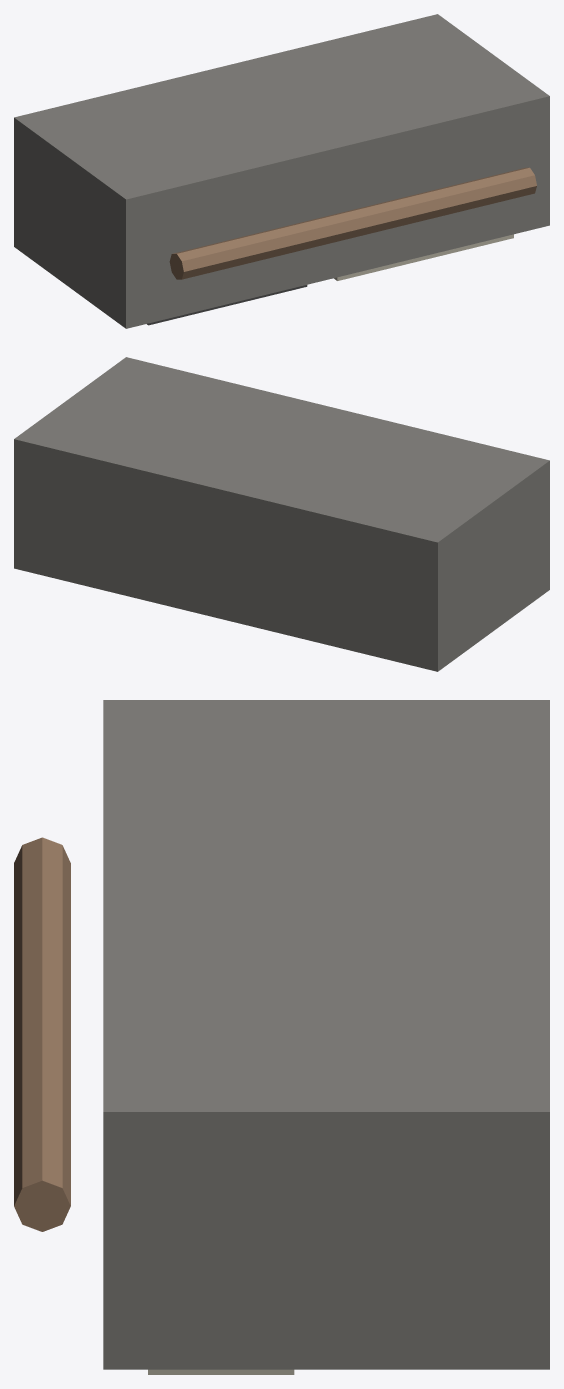
The model's file is radio_old.glb.
The picture shows the model from 3 angles, top to bottom: view 1: azimuth 30°, elevation 25°; view 2: azimuth 150°, elevation 25°; view 3: azimuth 270°, elevation 25°; orthographic projection. The views are drawn at different scales.
Parts seen in each view (by area): view 1: world; view 2: world; view 3: world.
Boxes of the visible parts, <box> form: world: <box>14,14,549,328</box>; world: <box>14,357,549,671</box>; world: <box>14,700,549,1374</box>.
Bounding box in the file's own units: 1.2 × 0.39 × 0.66.
